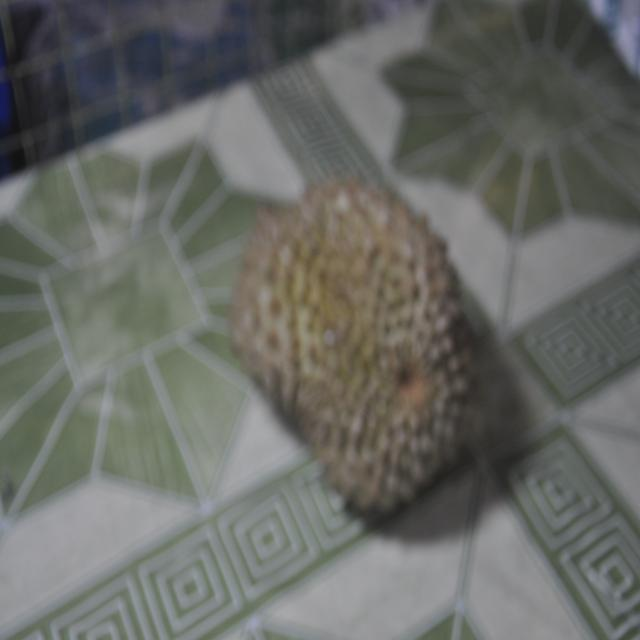mature: (204, 163, 495, 557)
